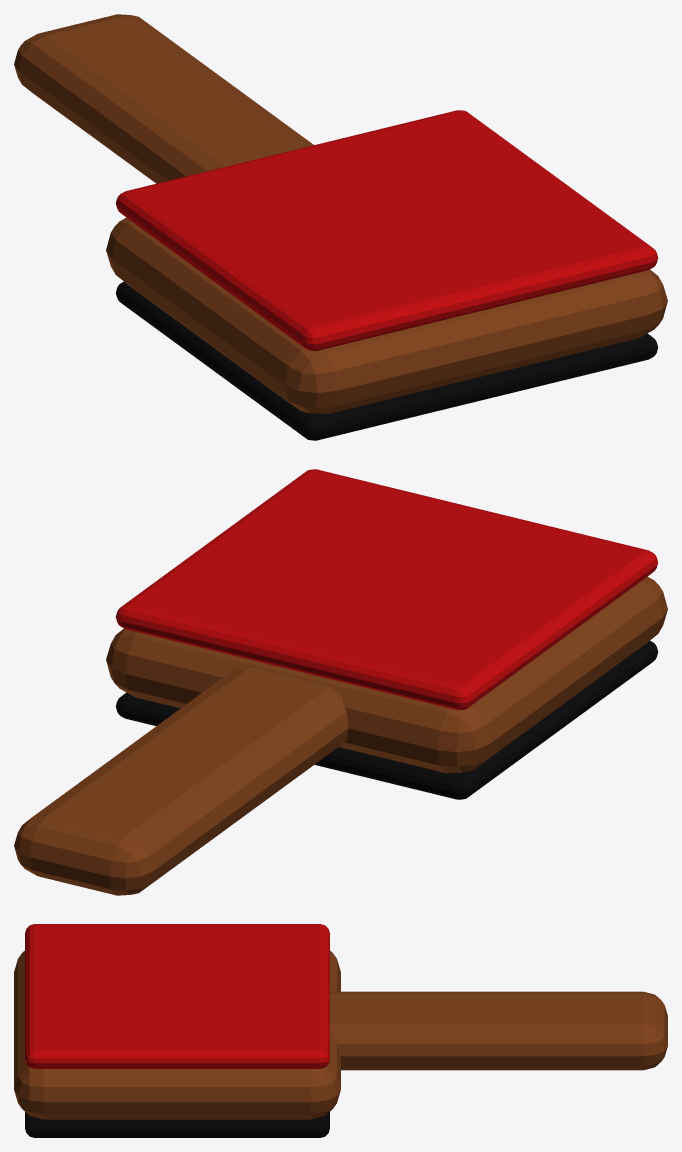
File: equipamiento_paleta.obj
3 views of the same model, one above another, from view 1: azimuth 30°, elevation 25°; view 2: azimuth 150°, elevation 25°; view 3: azimuth 270°, elevation 25° (orthographic). The views are drawn at different scales.
Visible parts, largest first — view 1: Paleta_Goma_Roja, Paleta_Nucleo, Paleta_Mango, Paleta_Goma_Negra; view 2: Paleta_Goma_Roja, Paleta_Mango, Paleta_Nucleo, Paleta_Goma_Negra; view 3: Paleta_Goma_Roja, Paleta_Mango, Paleta_Nucleo, Paleta_Goma_Negra.
Boxes of the visible parts, x1,y1,x2,y2 form: Paleta_Goma_Roja: (115,110,658,351); Paleta_Nucleo: (106,217,667,414); Paleta_Mango: (14,14,313,183); Paleta_Goma_Negra: (116,281,658,440); Paleta_Goma_Roja: (116,469,658,710); Paleta_Mango: (14,667,348,895); Paleta_Nucleo: (106,576,667,773); Paleta_Goma_Negra: (115,641,658,799); Paleta_Goma_Roja: (25,924,329,1068); Paleta_Mango: (330,991,667,1070); Paleta_Nucleo: (14,951,340,1119); Paleta_Goma_Negra: (25,1112,329,1137).
Size of the model in its own units: 0.31 by 0.088 by 0.6.
